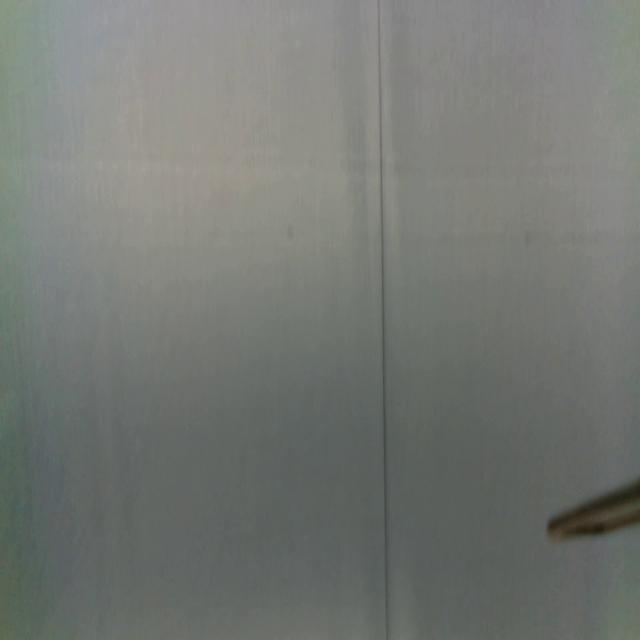color bleeding: (2, 135, 640, 188), (391, 220, 640, 256)
crease: (373, 0, 391, 640)
